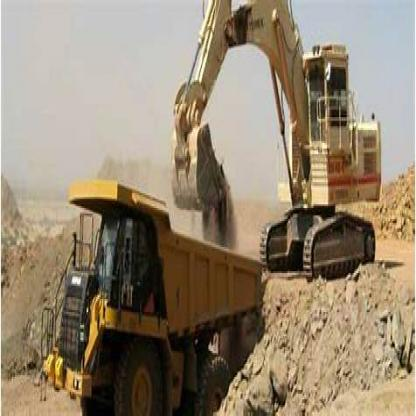dump_truck: (39, 171, 256, 414)
excavator: (162, 2, 408, 297)
